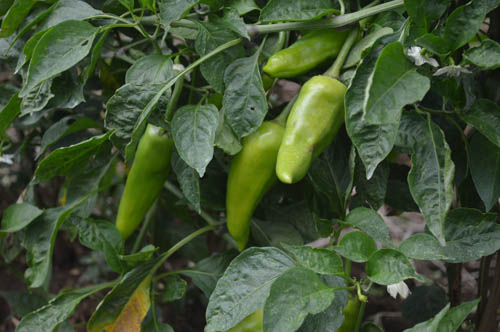ChiliPepper: (226, 120, 285, 262), (275, 77, 350, 187), (113, 122, 173, 246), (262, 29, 365, 76)
